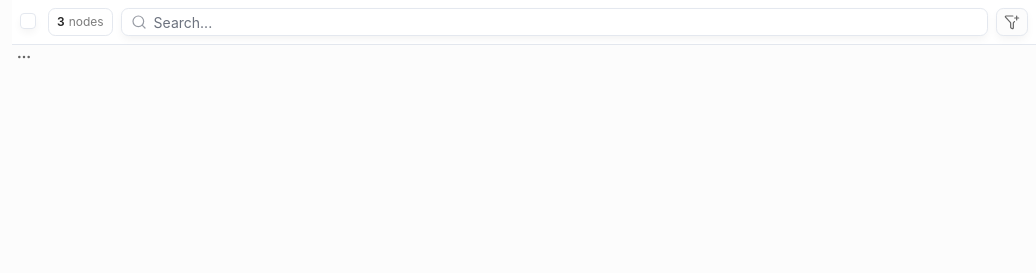
Scenario: sketch object roles › moves a secondary object only after the server accepts the role change
The width and height of the screenshot is (1036, 273).
Press ArrowDown in the button named "Node actions", box [12,45,36,69]
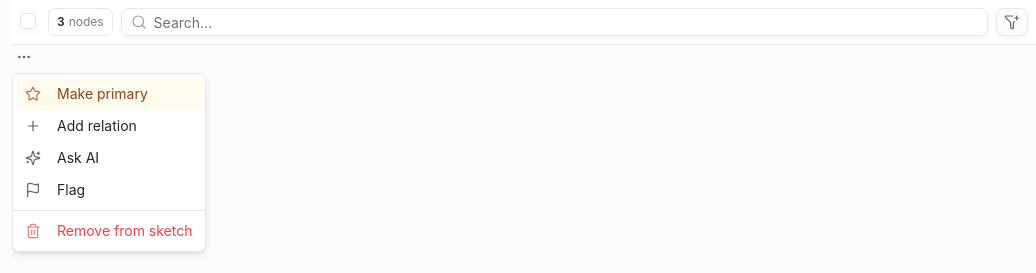
Click the menu item "Make primary". click: (109, 94)
box: [17,78,200,110]
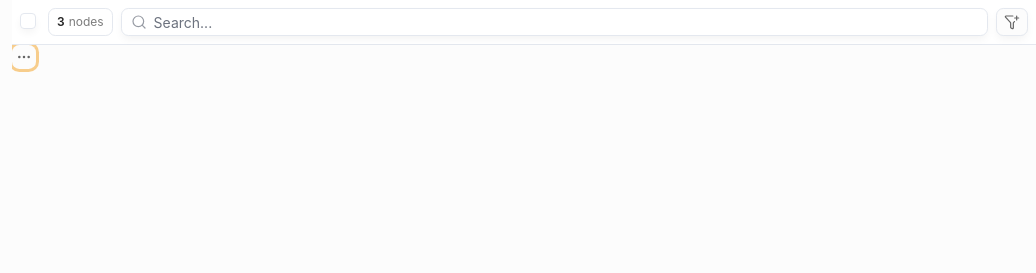
Press ArrowDown in the button named "Node actions", box [12,45,36,69]
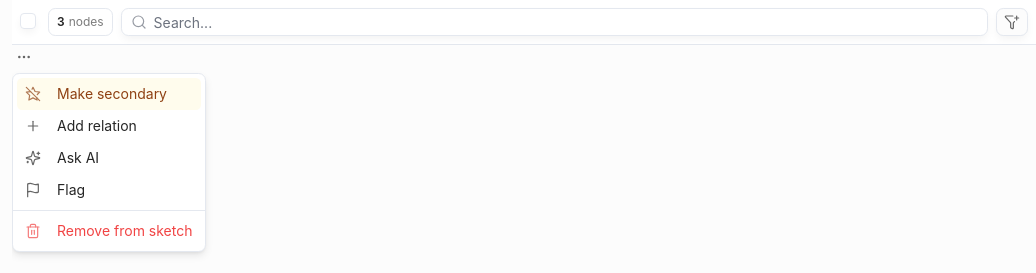
Check: the menu item "Make primary" is not shown
Check: the menu item "Make secondary" is shown, box [17,78,200,110]
